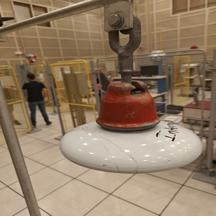insulator: (52, 76, 208, 182)
